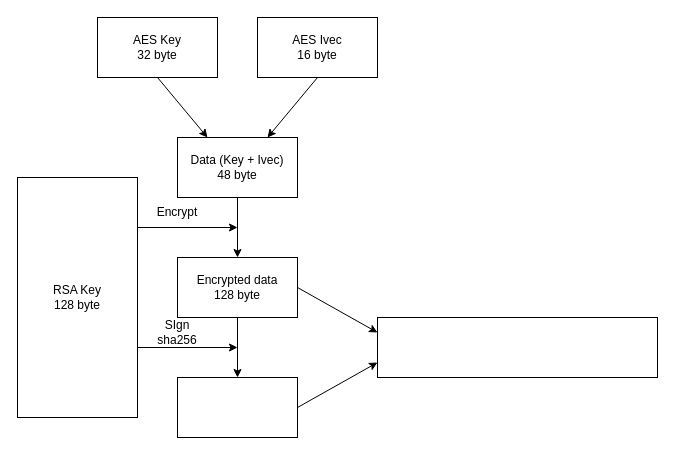
The diagram is 675 pixels wide and 455 high, and some of its shapes have lost their labels. The shapes that lost their labels are listed below. From the top down, each one's centre as x and y in pixels, then its label:
At point 517,347: "Message (encrypted data + signature) 256 byte".
At point 237,407: "Signature 128 byte".
